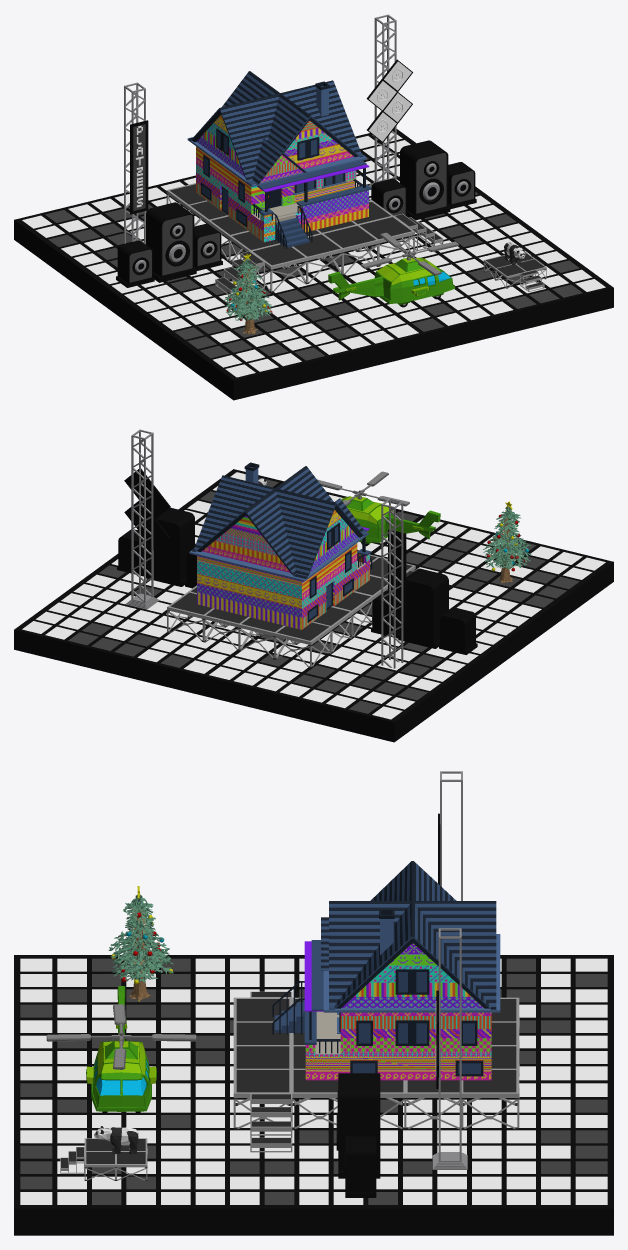
The picture shows the model from 3 angles, top to bottom: view 1: azimuth 30°, elevation 25°; view 2: azimuth 150°, elevation 25°; view 3: azimuth 270°, elevation 25°; orthographic projection. The views are drawn at different scales.
Visible parts, largest first — view 1: Cube.008, Cube.676, VEHICLES_HELICOPTER, OBJRANDOM_CHRISTMAS_TREE; view 2: Cube.008, Cube.676, VEHICLES_HELICOPTER, OBJRANDOM_CHRISTMAS_TREE; view 3: Cube.008, Cube.676, VEHICLES_HELICOPTER, OBJRANDOM_CHRISTMAS_TREE, ANIMAL_PANDA.
Boxes of the visible parts, x1=… form: Cube.008: x1=14, y1=14, x2=613, y2=400; Cube.676: x1=187, y1=71, x2=371, y2=248; VEHICLES_HELICOPTER: x1=328, y1=232, x2=459, y2=307; OBJRANDOM_CHRISTMAS_TREE: x1=222, y1=253, x2=273, y2=334; Cube.008: x1=14, y1=429, x2=613, y2=742; Cube.676: x1=189, y1=462, x2=372, y2=629; VEHICLES_HELICOPTER: x1=317, y1=471, x2=440, y2=546; OBJRANDOM_CHRISTMAS_TREE: x1=483, y1=501, x2=531, y2=583; Cube.008: x1=14, y1=771, x2=613, y2=1235; Cube.676: x1=272, y1=861, x2=500, y2=1080; VEHICLES_HELICOPTER: x1=46, y1=986, x2=196, y2=1112; OBJRANDOM_CHRISTMAS_TREE: x1=108, y1=886, x2=173, y2=1001; ANIMAL_PANDA: x1=94, y1=1126, x2=138, y2=1154.
Size of the model in its own units: 4000 by 1995 by 4000.
Materials: 40 (6 with a texture image).
